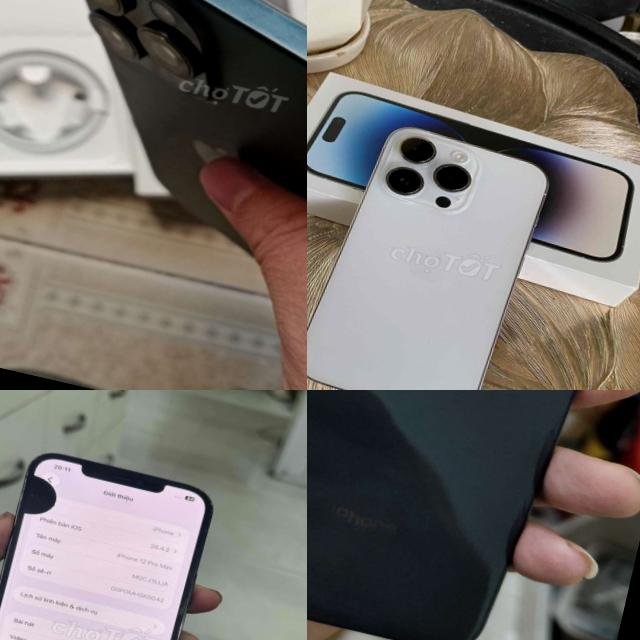gen_12_13: (0, 439, 223, 640)
gen_14: (307, 112, 551, 390)
gen_15: (0, 0, 307, 287)
gen_7_8: (307, 390, 640, 640)
screen_defect: (11, 457, 75, 539)
